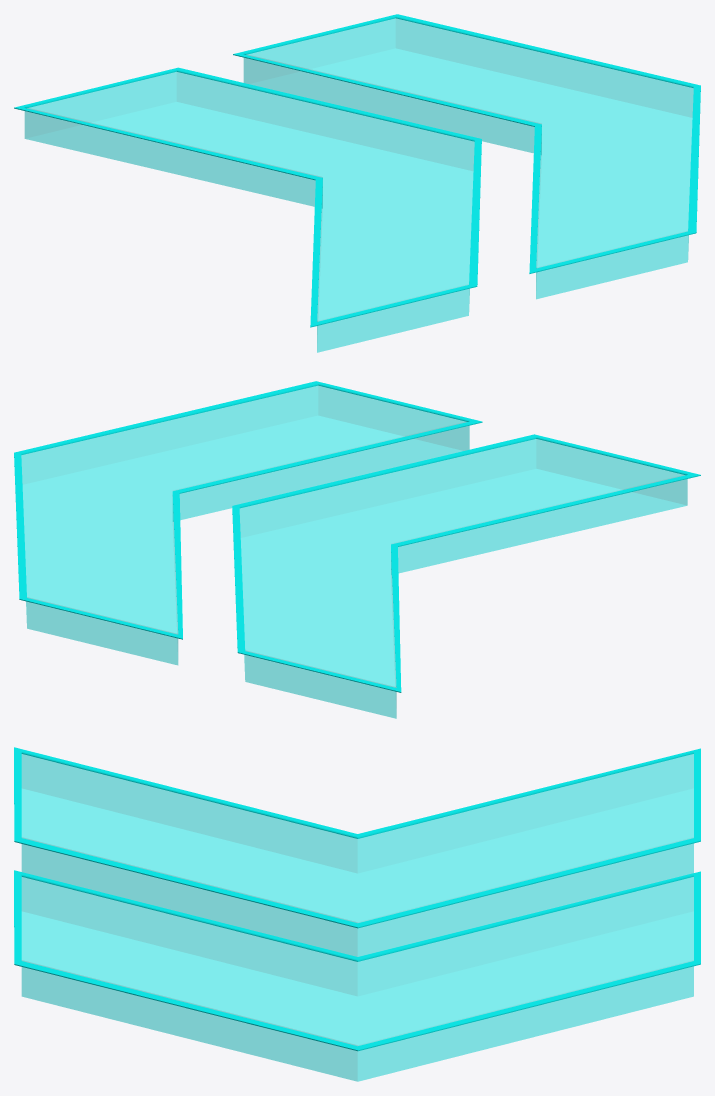
Rendered from arrowv9.glb.
3 renders of one model, top to bottom at view 1: azimuth 30°, elevation 25°; view 2: azimuth 150°, elevation 25°; view 3: azimuth 270°, elevation 25°, orthographic. The views are drawn at different scales.
Visible parts, largest first — view 1: arrowv6; view 2: arrowv6; view 3: arrowv6.
Boxes of the visible parts, bbox=[...] form: arrowv6: bbox=[14, 14, 700, 352]; arrowv6: bbox=[14, 381, 700, 718]; arrowv6: bbox=[14, 747, 700, 1081].
Bounding box in the file's own units: 0.32 × 0.018 × 0.3065.
